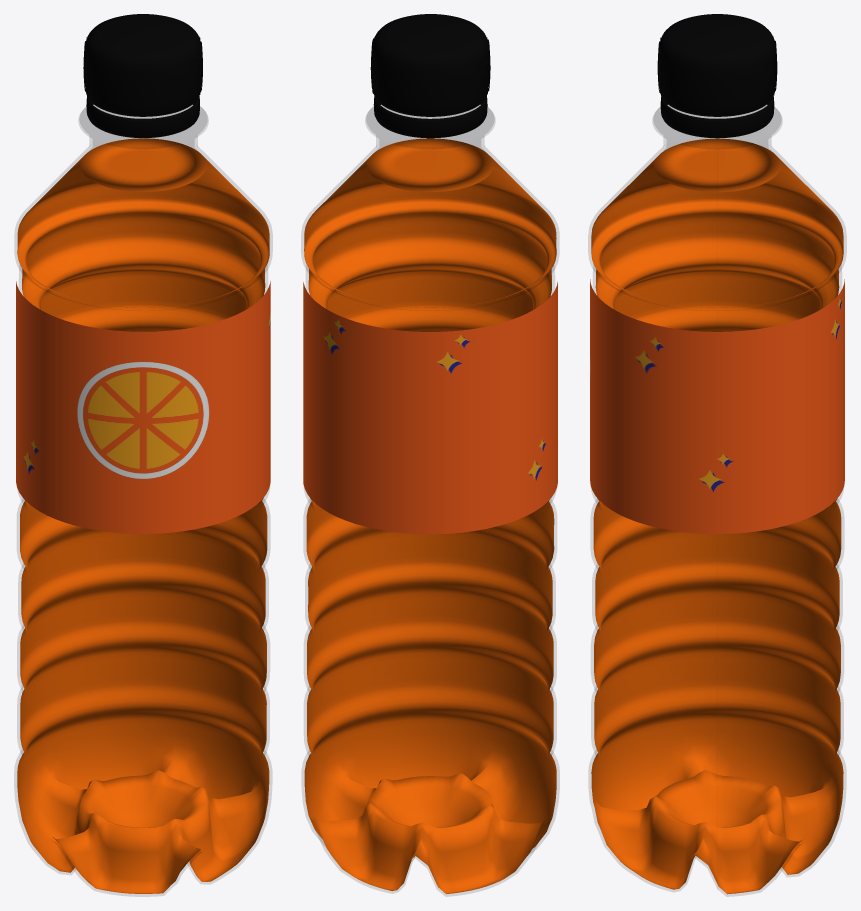
Rendered from btlm.glb.
The picture shows the model from 3 angles, left to right: view 1: azimuth 30°, elevation 25°; view 2: azimuth 150°, elevation 25°; view 3: azimuth 270°, elevation 25°; orthographic projection.
Visible parts, largest first — view 1: Bottle_Circle.001, BottleCap_Cylinder.001; view 2: Bottle_Circle.001, BottleCap_Cylinder.001; view 3: Bottle_Circle.001, BottleCap_Cylinder.001.
Part boxes in pixels (left/top/right/bottom): Bottle_Circle.001: left=14, top=96, right=272, bottom=896; BottleCap_Cylinder.001: left=83, top=14, right=202, bottom=116; Bottle_Circle.001: left=301, top=96, right=559, bottom=896; BottleCap_Cylinder.001: left=370, top=14, right=490, bottom=116; Bottle_Circle.001: left=588, top=96, right=846, bottom=896; BottleCap_Cylinder.001: left=657, top=14, right=777, bottom=116.
Size of the model in its own units: 0.00386 by 0.0136 by 0.00386.
4 materials, 1 textured.
